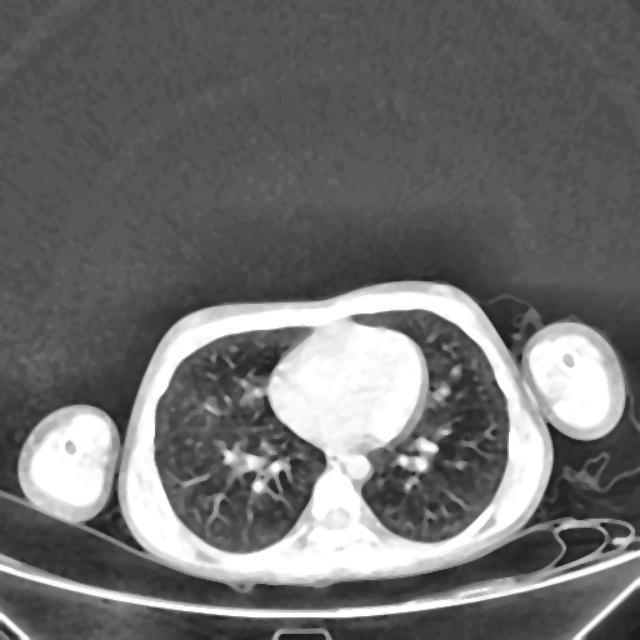covid: (115, 278, 555, 593)
